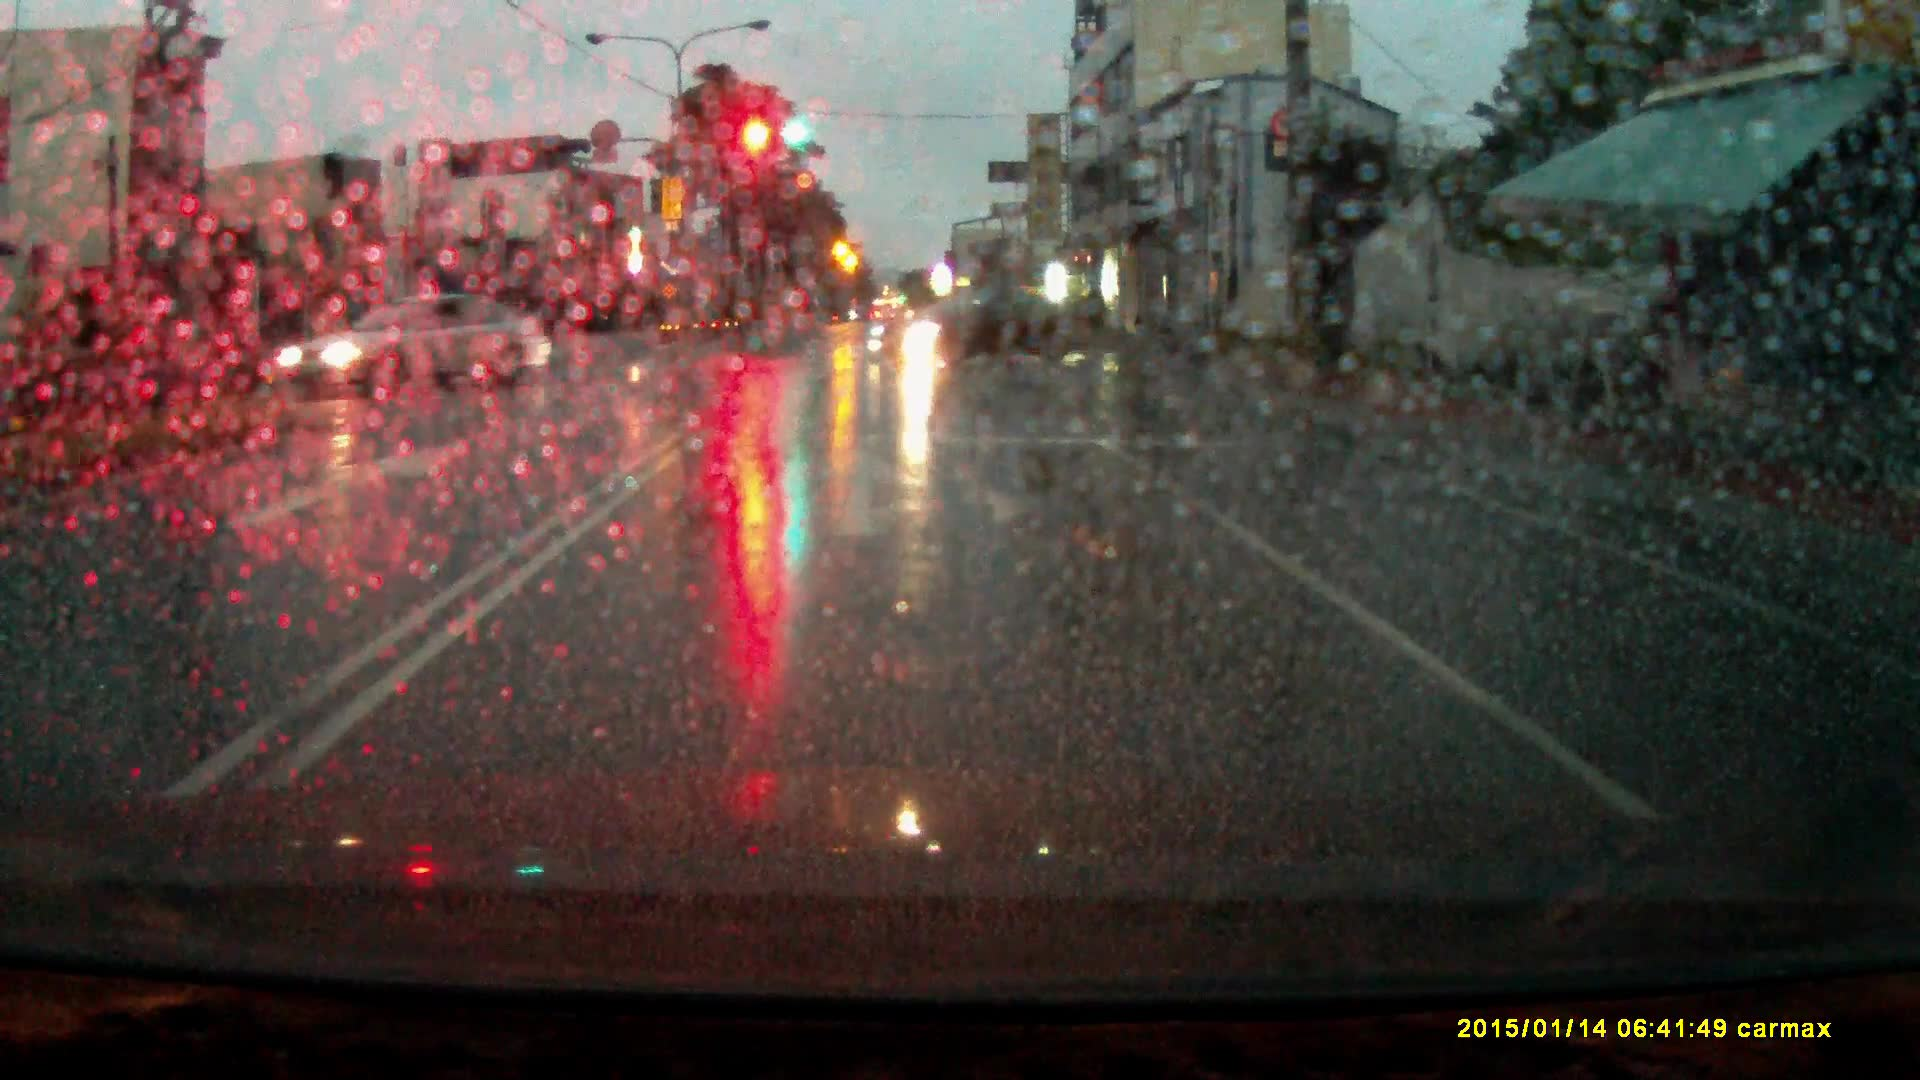vehicle: (273, 293, 558, 396), (872, 289, 1088, 369)
